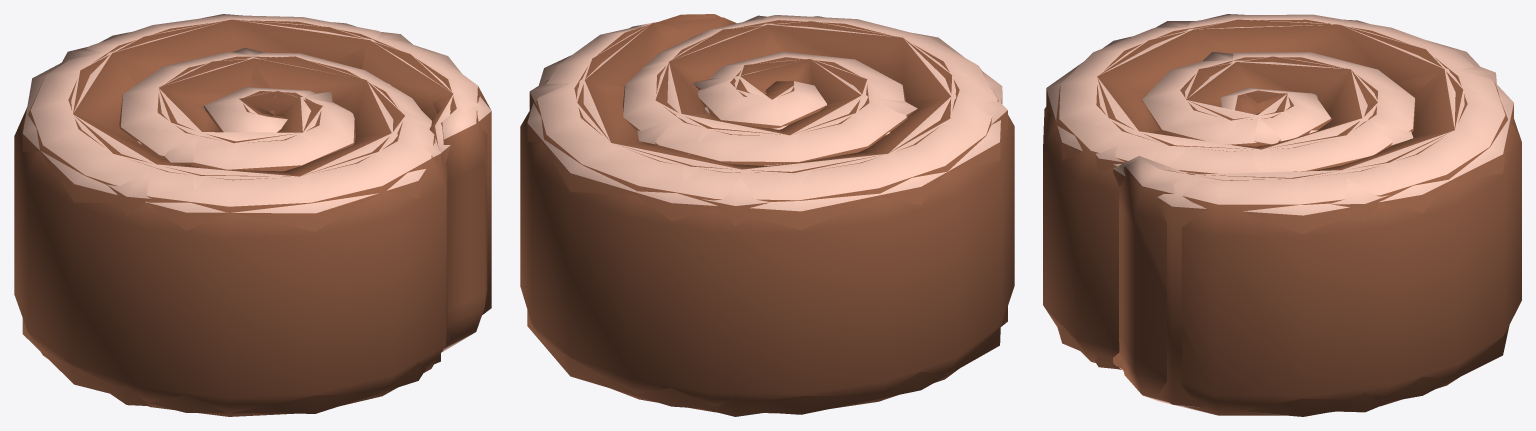
File: SwissRoll_02.fbx
The picture shows the model from 3 angles, left to right: view 1: azimuth 30°, elevation 25°; view 2: azimuth 150°, elevation 25°; view 3: azimuth 270°, elevation 25°; orthographic projection.
Visible parts, largest first — view 1: Swissroll_02_LOD1, Swissroll_02_LOD3, Swissroll_02_LOD2; view 2: Swissroll_02_LOD1, Swissroll_02_LOD3, Swissroll_02_LOD2; view 3: Swissroll_02_LOD1, Swissroll_02_LOD3, Swissroll_02_LOD2.
Part boxes in pixels (bbox=[...]): Swissroll_02_LOD1: bbox=[14, 15, 490, 416]; Swissroll_02_LOD3: bbox=[60, 19, 452, 406]; Swissroll_02_LOD2: bbox=[22, 14, 491, 413]; Swissroll_02_LOD1: bbox=[520, 14, 1014, 413]; Swissroll_02_LOD3: bbox=[529, 15, 1007, 416]; Swissroll_02_LOD2: bbox=[527, 16, 1002, 414]; Swissroll_02_LOD1: bbox=[1043, 14, 1521, 415]; Swissroll_02_LOD3: bbox=[1095, 21, 1497, 412]; Swissroll_02_LOD2: bbox=[1046, 14, 1513, 416].
Size of the model in its own units: 445 by 240 by 443.
